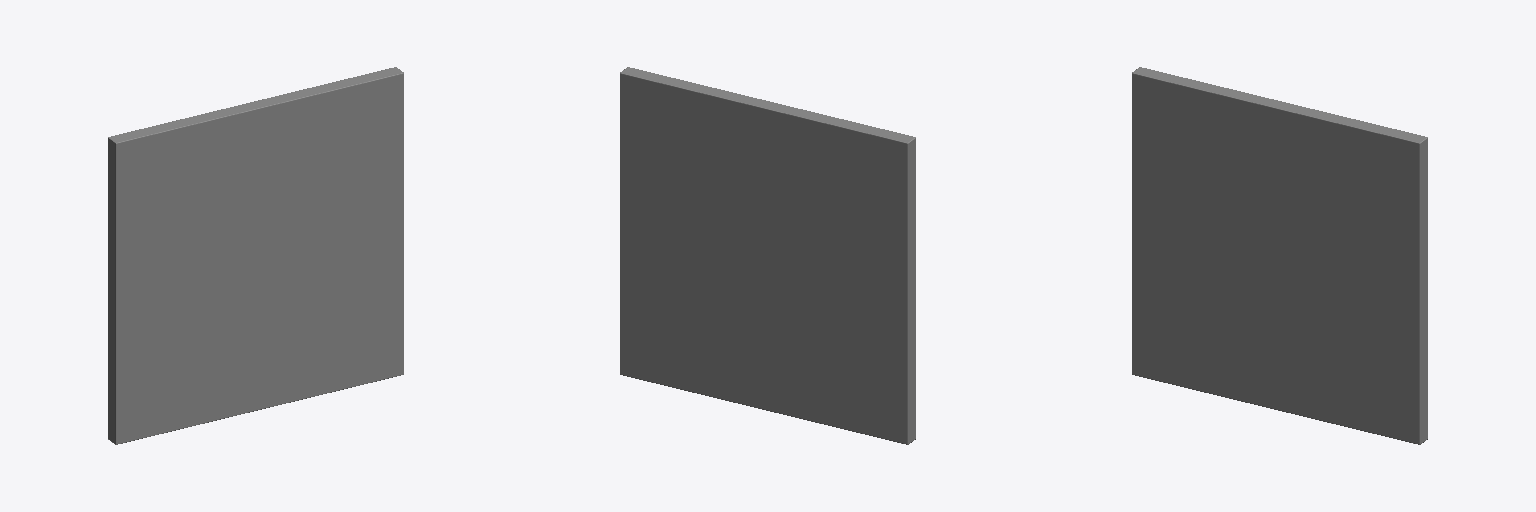
Rendered from chess.obj.
3 views of the same model, side by side, from view 1: azimuth 30°, elevation 25°; view 2: azimuth 150°, elevation 25°; view 3: azimuth 330°, elevation 25° (orthographic).
Parts seen in each view (by area): view 1: 10586_Chess_Board_v1_max2010; view 2: 10586_Chess_Board_v1_max2010; view 3: 10586_Chess_Board_v1_max2010.
Boxes of the visible parts, x1=… form: 10586_Chess_Board_v1_max2010: x1=108, y1=67, x2=403, y2=444; 10586_Chess_Board_v1_max2010: x1=620, y1=67, x2=915, y2=444; 10586_Chess_Board_v1_max2010: x1=1132, y1=67, x2=1427, y2=444.
Size of the model in its own units: 39 by 39 by 2.